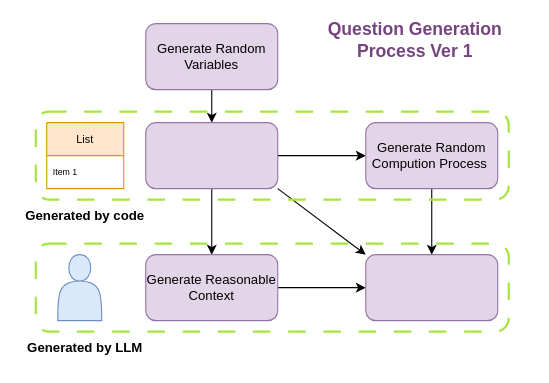
Some shapes in this 549 by 383 pixel diagram are drawn without their labels. Each missing label, with the centre of its shape:
"Generate Dependency between Random Variables" goes at (211,155).
"Generate the Final Problem" goes at (431,287).
